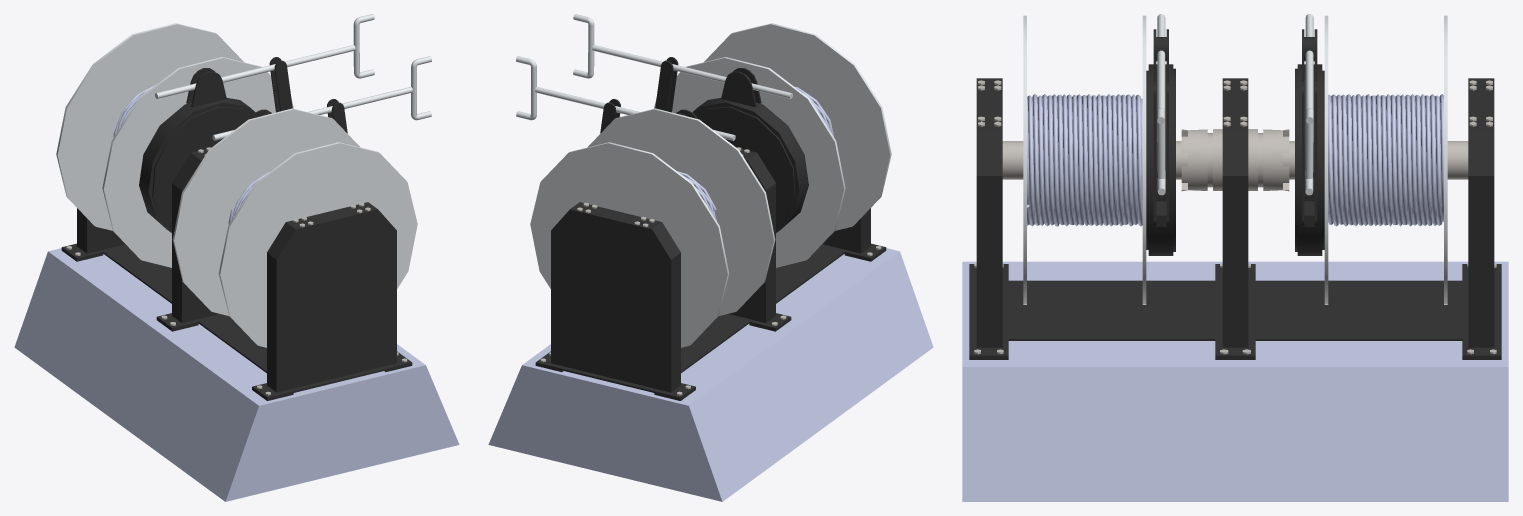
3 renders of one model, left to right at view 1: azimuth 30°, elevation 25°; view 2: azimuth 150°, elevation 25°; view 3: azimuth 270°, elevation 25°, orthographic. The views are drawn at different scales.
Visible parts, largest first — view 1: NAUO10; view 2: NAUO10; view 3: NAUO10.
Part boxes in pixels (x1,y1,x2,y2): NAUO10: (14, 14, 459, 501); NAUO10: (488, 14, 933, 501); NAUO10: (962, 14, 1508, 501).
Size of the model in its own units: 2.05 by 2.23 by 2.66.
